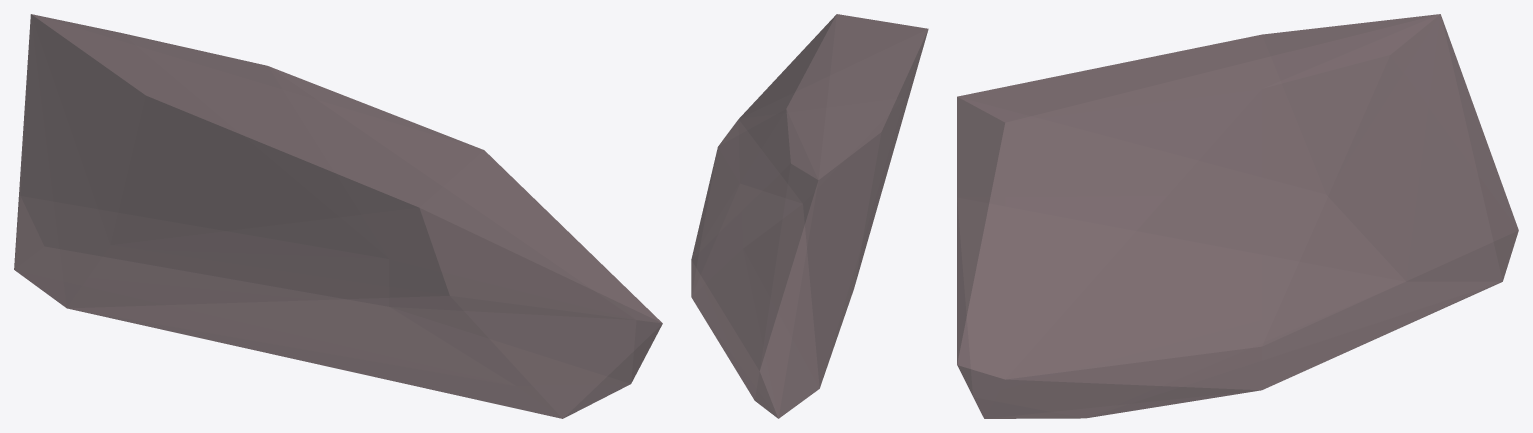
The picture shows the model from 3 angles, left to right: view 1: azimuth 30°, elevation 25°; view 2: azimuth 150°, elevation 25°; view 3: azimuth 270°, elevation 25°; orthographic projection. The views are drawn at different scales.
Parts seen in each view (by area): view 1: Shape_IndexedFaceSet.039_Shape_IndexedFaceSet.9560; view 2: Shape_IndexedFaceSet.039_Shape_IndexedFaceSet.9560; view 3: Shape_IndexedFaceSet.039_Shape_IndexedFaceSet.9560.
Part boxes in pixels (x1,y1,x2,y2): Shape_IndexedFaceSet.039_Shape_IndexedFaceSet.9560: (14, 14, 662, 418); Shape_IndexedFaceSet.039_Shape_IndexedFaceSet.9560: (691, 14, 928, 418); Shape_IndexedFaceSet.039_Shape_IndexedFaceSet.9560: (957, 14, 1518, 418).
Bounding box in the file's own units: 0.159 × 0.1245 × 0.2307.
